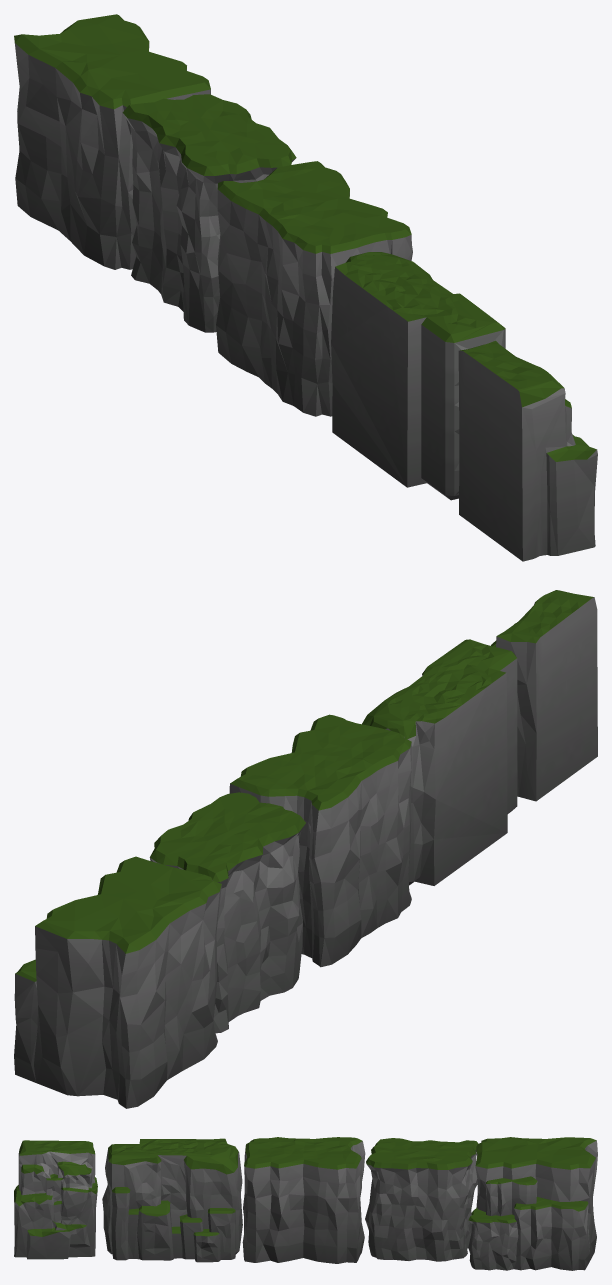
File: cliffs.gltf
3 views of the same model, one above another, from view 1: azimuth 30°, elevation 25°; view 2: azimuth 150°, elevation 25°; view 3: azimuth 270°, elevation 25° (orthographic). The views are drawn at different scales.
Visible parts, largest first — view 1: SM_CliffC, SM_CliffE, SM_CliffB, SM_CliffA, SM_CliffD; view 2: SM_CliffE, SM_CliffC, SM_CliffB, SM_CliffD, SM_CliffA; view 3: SM_CliffB, SM_CliffE, SM_CliffC, SM_CliffD, SM_CliffA.
Boxes of the visible parts, left/top/right/bottom form: SM_CliffC: left=216, top=161, right=412, bottom=416; SM_CliffE: left=14, top=14, right=210, bottom=269; SM_CliffB: left=331, top=252, right=505, bottom=500; SM_CliffA: left=458, top=340, right=597, bottom=561; SM_CliffD: left=122, top=94, right=296, bottom=332; SM_CliffE: left=14, top=856, right=221, bottom=1108; SM_CliffC: left=229, top=714, right=411, bottom=967; SM_CliffB: left=362, top=639, right=517, bottom=885; SM_CliffD: left=149, top=792, right=305, bottom=1033; SM_CliffA: left=491, top=590, right=597, bottom=801; SM_CliffB: left=102, top=1138, right=242, bottom=1262; SM_CliffE: left=468, top=1137, right=597, bottom=1270; SM_CliffC: left=242, top=1137, right=365, bottom=1263; SM_CliffD: left=365, top=1138, right=478, bottom=1261; SM_CliffA: left=14, top=1140, right=97, bottom=1259.
Size of the model in its own units: 26.04 by 30.44 by 163.
Materials: 1 (1 with a texture image).
